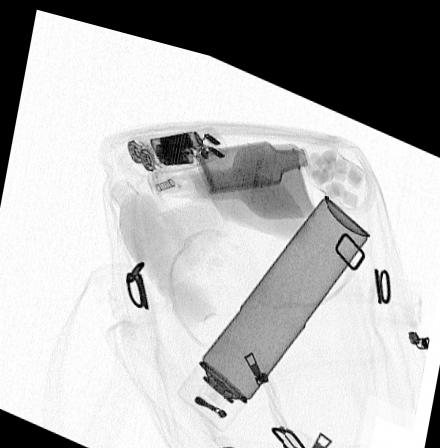Sprayer: (174, 176, 371, 420)
